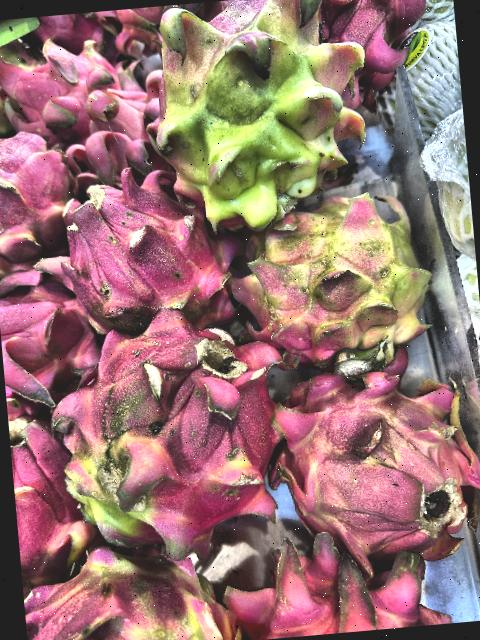buah-naga-belum-matang: (128, 0, 369, 228), (52, 320, 287, 544), (263, 333, 480, 568), (223, 182, 432, 372), (28, 544, 230, 640)
buah-naga-matang: (47, 168, 225, 340), (215, 525, 462, 640), (7, 409, 98, 585), (0, 259, 97, 400), (0, 29, 118, 143), (77, 80, 172, 187), (0, 129, 75, 260)
